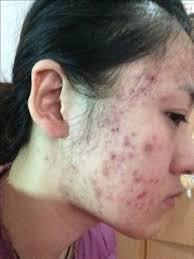fore: (137, 85, 155, 102), (156, 90, 168, 106), (141, 170, 153, 185), (132, 200, 144, 215), (93, 186, 105, 199), (124, 146, 134, 160), (110, 123, 121, 135), (144, 143, 156, 154), (146, 194, 155, 208), (145, 73, 157, 83), (127, 195, 135, 210), (127, 84, 136, 97), (106, 150, 117, 160), (145, 133, 158, 141), (90, 177, 100, 187), (151, 176, 162, 185), (133, 175, 142, 185), (98, 160, 109, 168), (101, 165, 109, 176), (98, 117, 107, 126), (120, 133, 129, 142), (114, 91, 124, 99), (127, 169, 140, 175), (116, 106, 125, 114), (115, 156, 124, 164), (136, 189, 144, 198), (119, 191, 125, 203), (109, 115, 118, 122), (109, 102, 116, 110), (125, 186, 133, 193), (131, 129, 137, 137), (128, 143, 134, 148)
